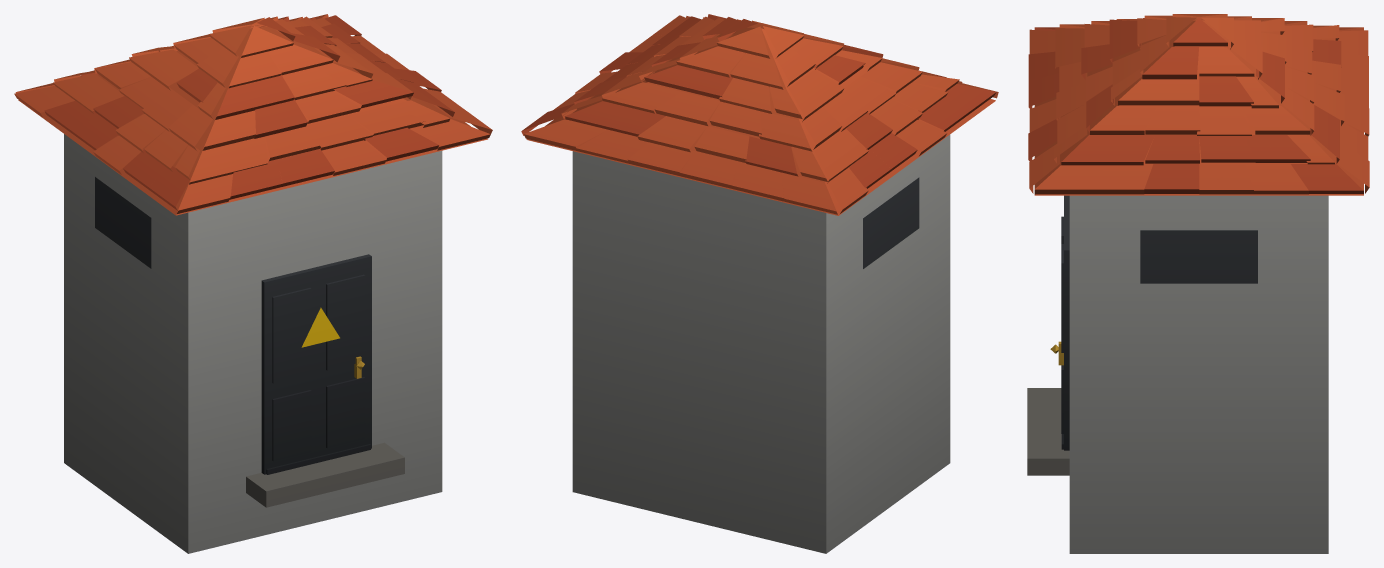
File: Transformer.fbx
The picture shows the model from 3 angles, left to right: view 1: azimuth 30°, elevation 25°; view 2: azimuth 150°, elevation 25°; view 3: azimuth 270°, elevation 25°; orthographic projection. The views are drawn at different scales.
Visible parts, largest first — view 1: Transformer_LOD0; view 2: Transformer_LOD0; view 3: Transformer_LOD0.
Part boxes in pixels (x1,y1,x2,y2): Transformer_LOD0: (14, 14, 492, 553); Transformer_LOD0: (521, 14, 998, 553); Transformer_LOD0: (1027, 14, 1369, 553).
Size of what is drawn, in the model's own units: 3.3 by 4.44 by 2.91.
Materials: 1 (1 with a texture image).
